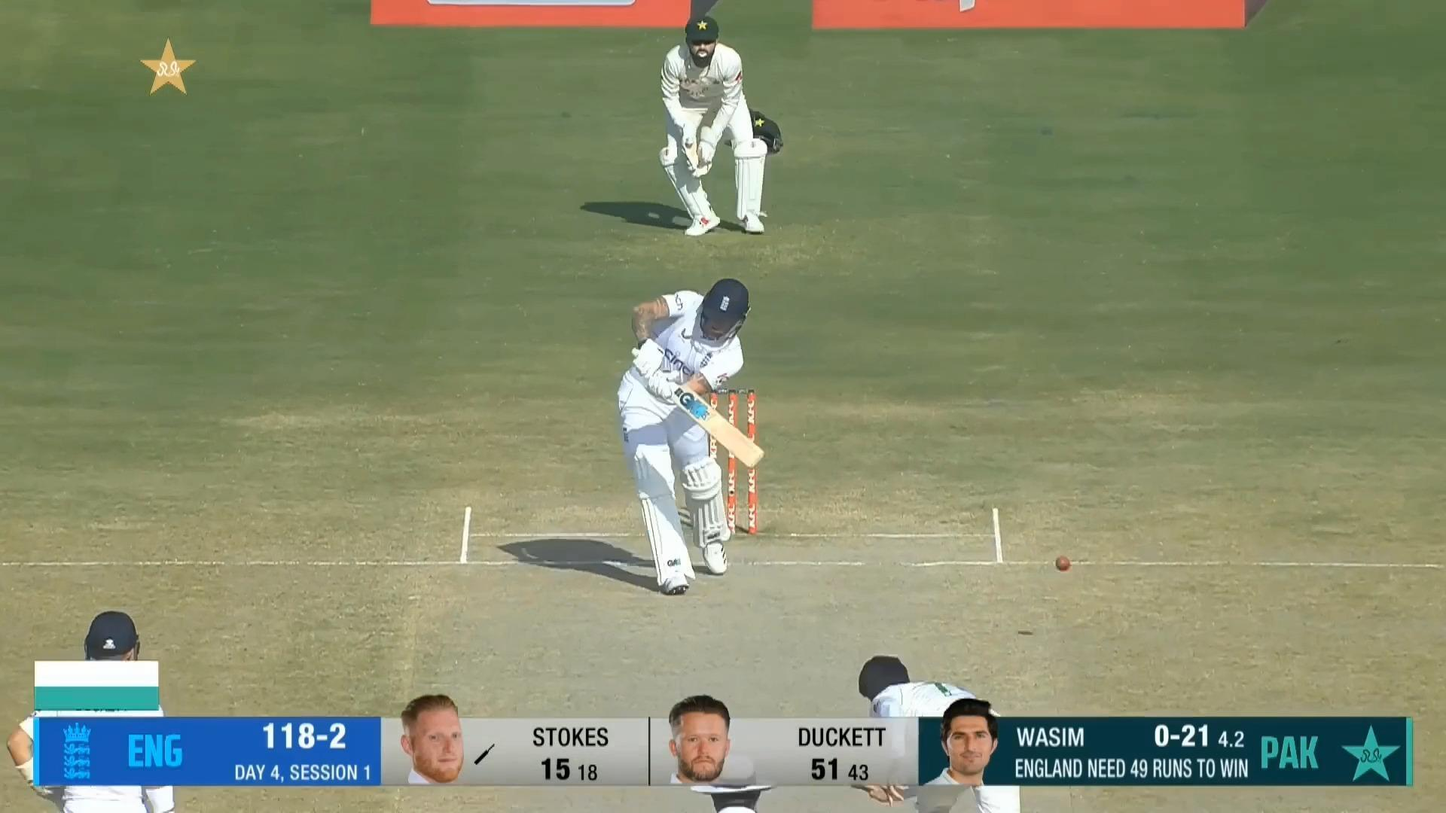BM 1: (615, 276, 767, 596)
BO: (850, 654, 1022, 813)
